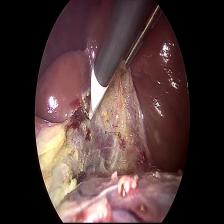Grasper: (119, 6, 161, 77)
Hook: (75, 68, 109, 130)
